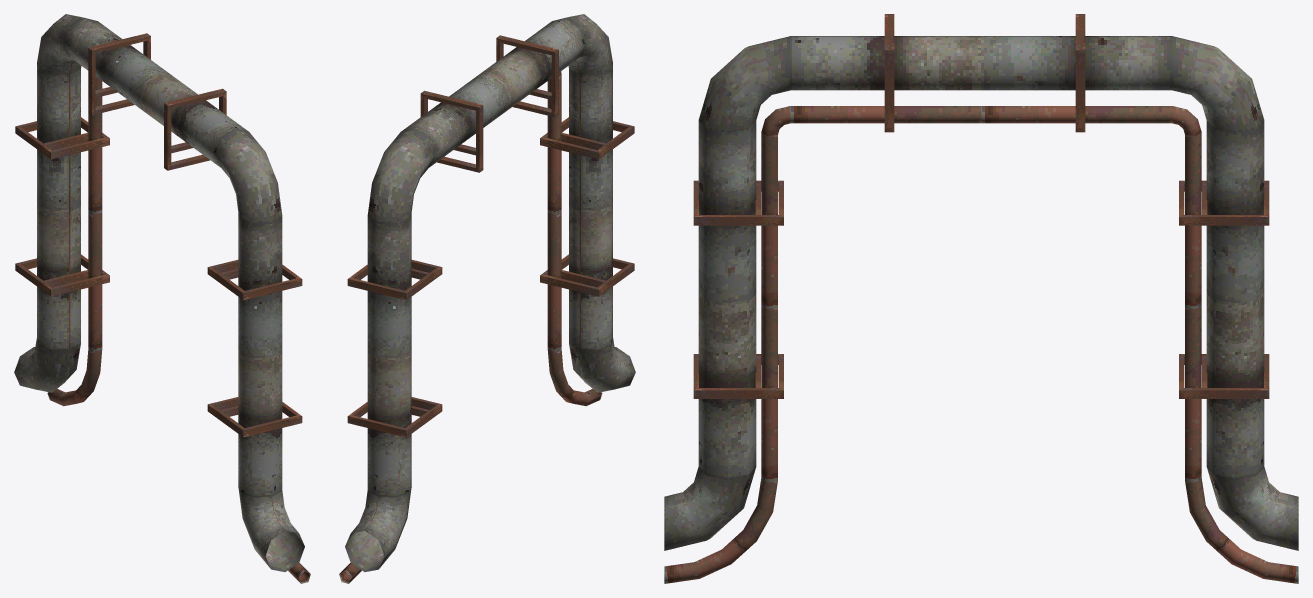
File: pipes_arch.glb
3 renders of one model, left to right at view 1: azimuth 30°, elevation 25°; view 2: azimuth 150°, elevation 25°; view 3: azimuth 270°, elevation 25°, orthographic. The views are drawn at different scales.
Parts seen in each view (by area): view 1: Pipes_arch; view 2: Pipes_arch; view 3: Pipes_arch.
Boxes of the visible parts, x1,y1,x2,y2 form: Pipes_arch: (14,14,310,583); Pipes_arch: (339,14,635,583); Pipes_arch: (664,14,1298,583).
Bounding box in the file's own units: 1.03 × 7.11 × 7.61.
1 material, 1 textured.
